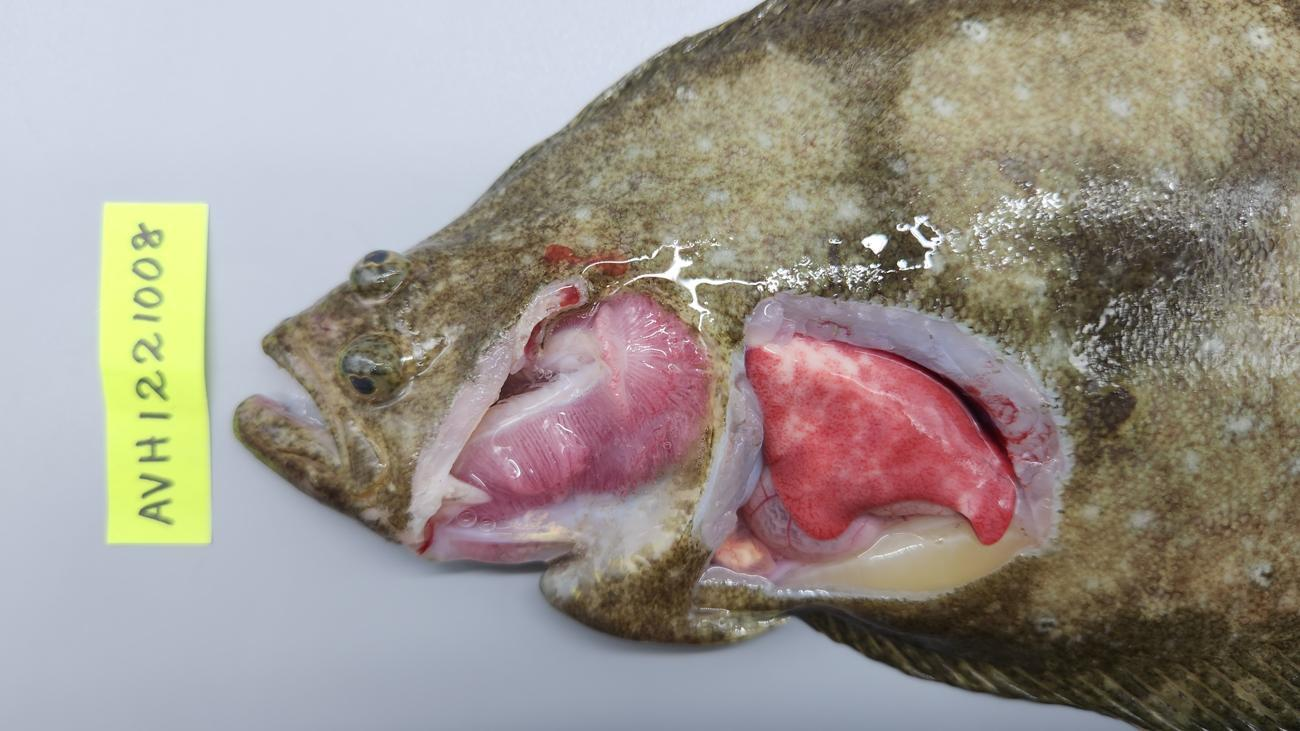VIGIP: (450, 297, 711, 523)
VILIC: (855, 353, 1031, 538)
VILII: (773, 337, 991, 523)
